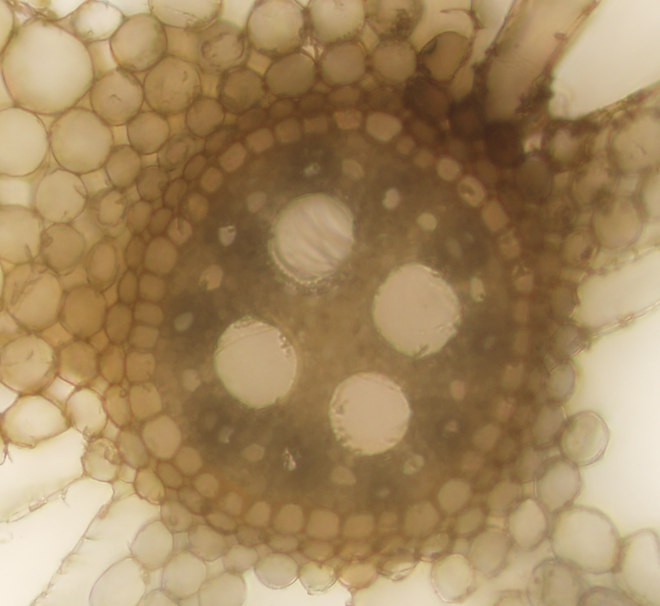lm: (267, 191, 357, 284), (213, 313, 299, 407), (329, 371, 412, 455)
